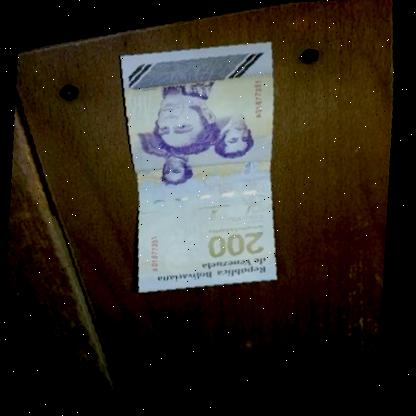vef_front: (86, 26, 313, 311)
